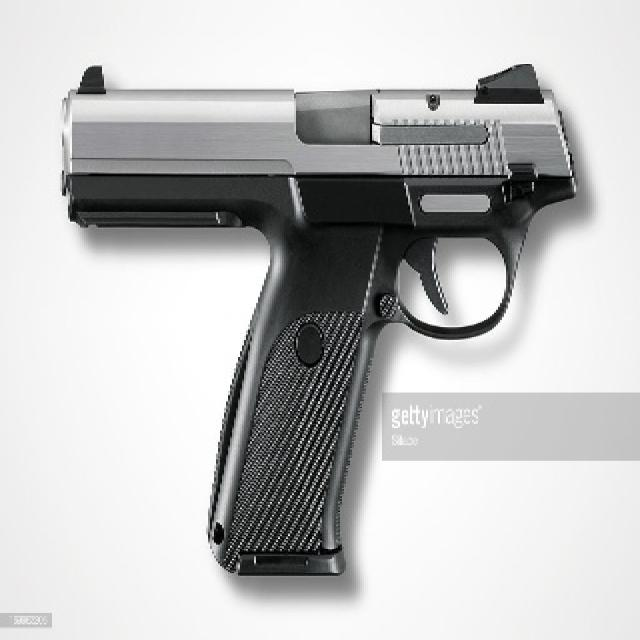handgun: (45, 50, 595, 582)
